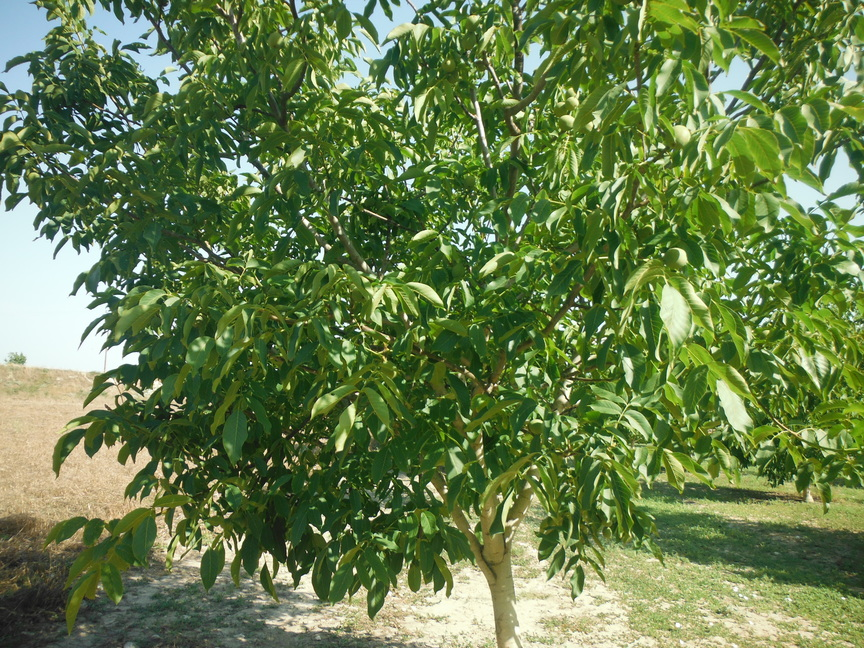walnut: (662, 119, 694, 151), (662, 243, 690, 271), (462, 10, 483, 34), (379, 356, 399, 380), (267, 27, 286, 51), (459, 171, 480, 191), (555, 113, 576, 133), (460, 30, 479, 52), (551, 253, 569, 276), (350, 285, 368, 306), (451, 261, 469, 281), (577, 116, 594, 137), (25, 169, 44, 186), (440, 55, 457, 74), (550, 100, 568, 116), (564, 86, 581, 102), (564, 95, 579, 112), (756, 328, 773, 343), (383, 201, 397, 219), (372, 539, 387, 554), (363, 195, 377, 209), (446, 70, 460, 84), (602, 525, 613, 541), (375, 198, 387, 212), (580, 525, 594, 535), (577, 530, 585, 546), (347, 280, 358, 291)
